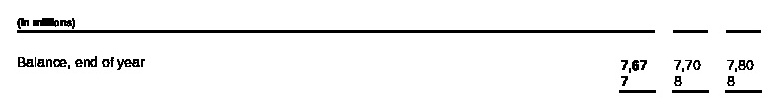table: (0, 0, 773, 112)
